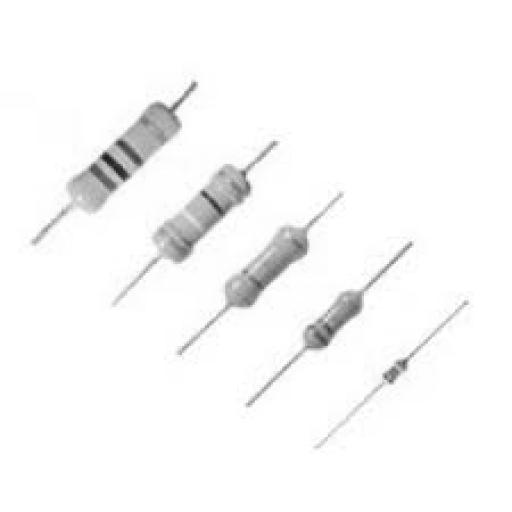RESISTOR: (20, 91, 213, 234), (120, 155, 284, 269), (235, 272, 391, 386), (176, 213, 342, 310), (328, 328, 445, 416)
